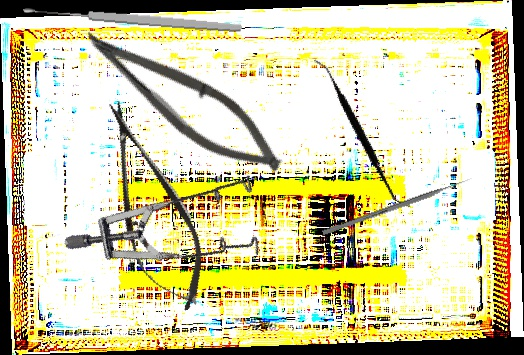Micro Scissor: (67, 17, 298, 187), (81, 91, 221, 321)
Pusher: (321, 175, 474, 237)
Spatula Surgical: (274, 58, 450, 209)
Speculum: (60, 115, 287, 322)
Surgical Spoon: (22, 3, 243, 35)
